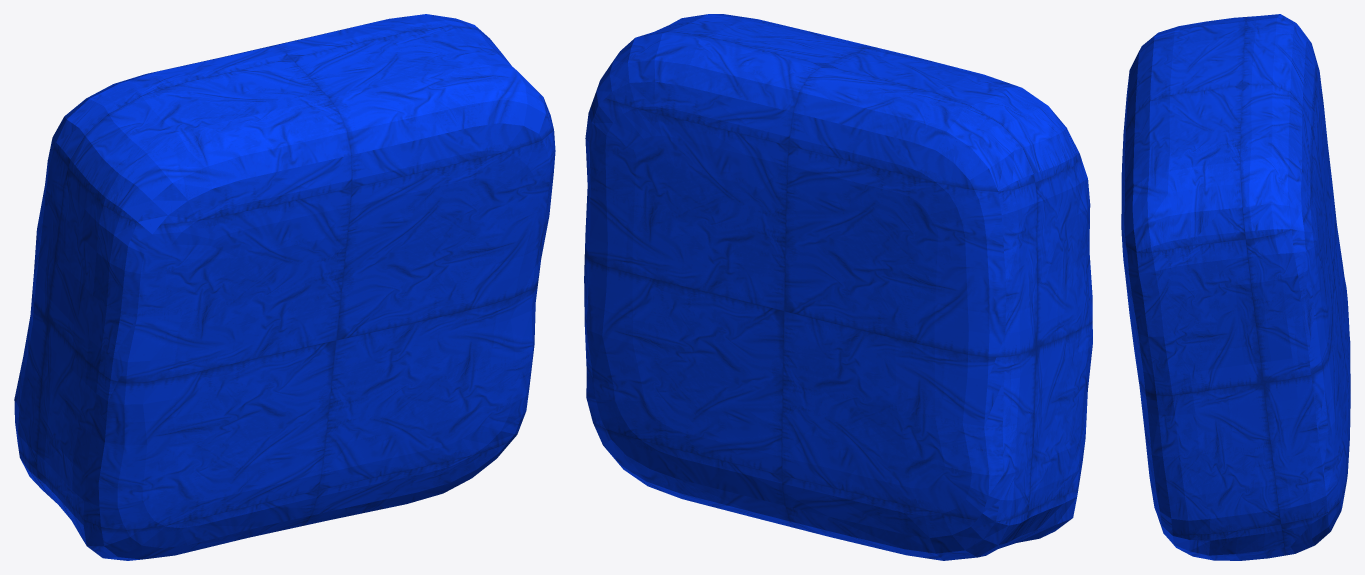
The model's file is ISS_INT_props_Bag_blue_small.FBX.
3 renders of one model, left to right at view 1: azimuth 30°, elevation 25°; view 2: azimuth 150°, elevation 25°; view 3: azimuth 270°, elevation 25°, orthographic. The views are drawn at different scales.
Parts seen in each view (by area): view 1: Columbus_int; view 2: Columbus_int; view 3: Columbus_int.
Part boxes in pixels (left/top/right/bottom): Columbus_int: left=14, top=14, right=555, bottom=560; Columbus_int: left=584, top=14, right=1092, bottom=560; Columbus_int: left=1121, top=14, right=1350, bottom=560.
Size of the model in its own units: 0.0342 by 0.0331 by 0.0164.
